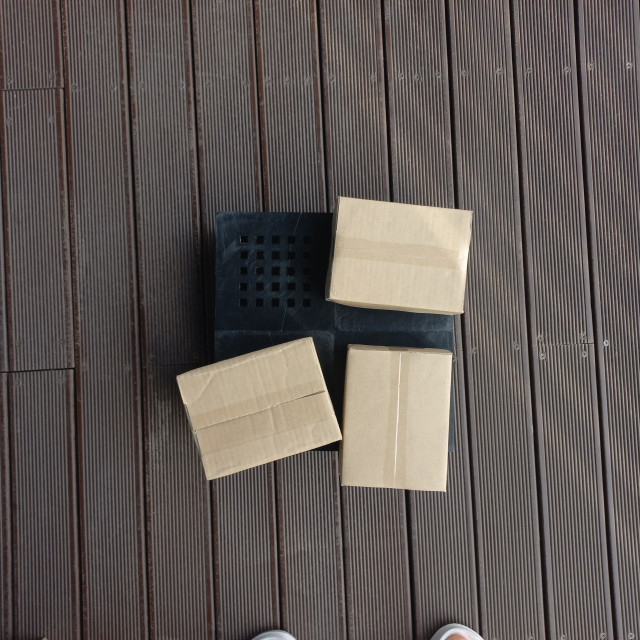box: (296, 157, 466, 305), (165, 323, 313, 447), (186, 146, 301, 299)
